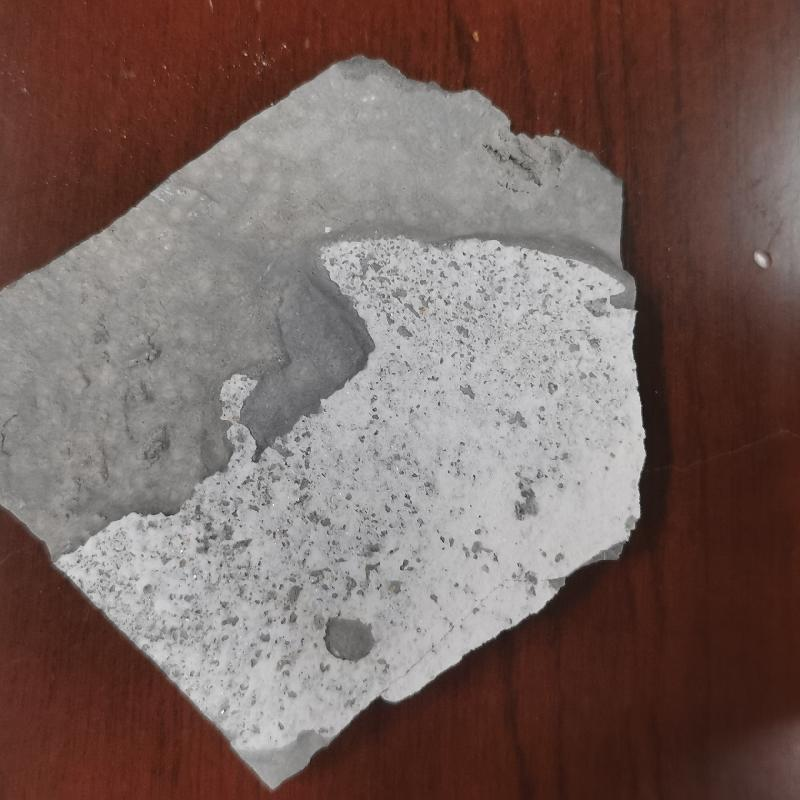tile: (3, 52, 650, 791)
